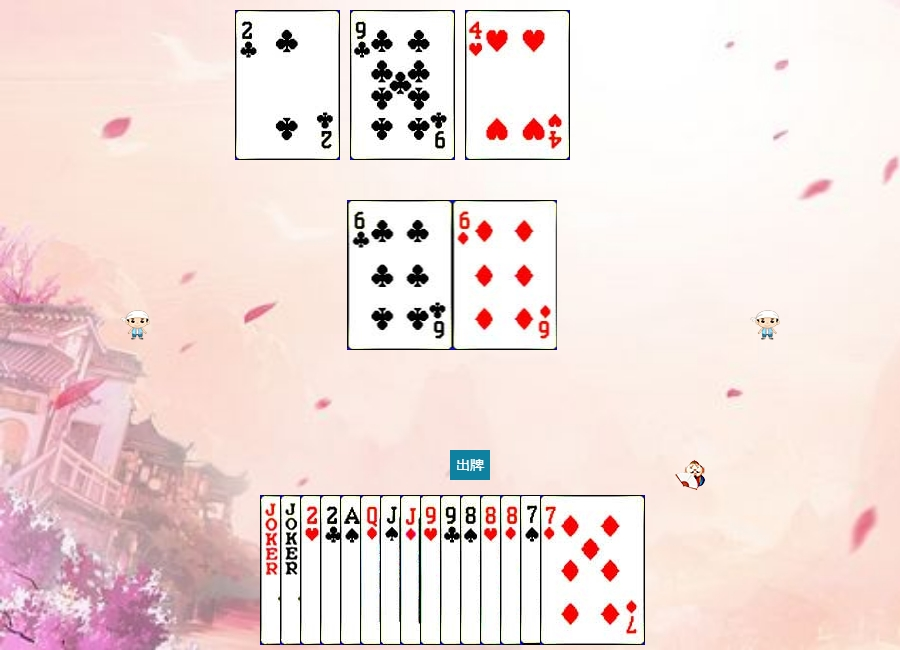11~1: (400, 495, 505, 645)
11~4: (380, 495, 485, 645)
12~1: (360, 495, 465, 645)
14~4: (340, 495, 445, 645)
15~2: (235, 10, 340, 160), (320, 495, 425, 645)
15~3: (300, 495, 405, 645)
17~3: (280, 495, 385, 645)
18~4: (260, 495, 365, 645)
4~3: (465, 10, 570, 160)
6~1: (453, 200, 558, 350)
6~2: (348, 200, 453, 350)
7~1: (540, 495, 645, 645)
7~4: (520, 495, 625, 645)
8~1: (500, 495, 605, 645)
8~3: (480, 495, 585, 645)
8~4: (460, 495, 565, 645)
9~2: (350, 10, 455, 160), (440, 495, 545, 645)
9~3: (420, 495, 525, 645)
